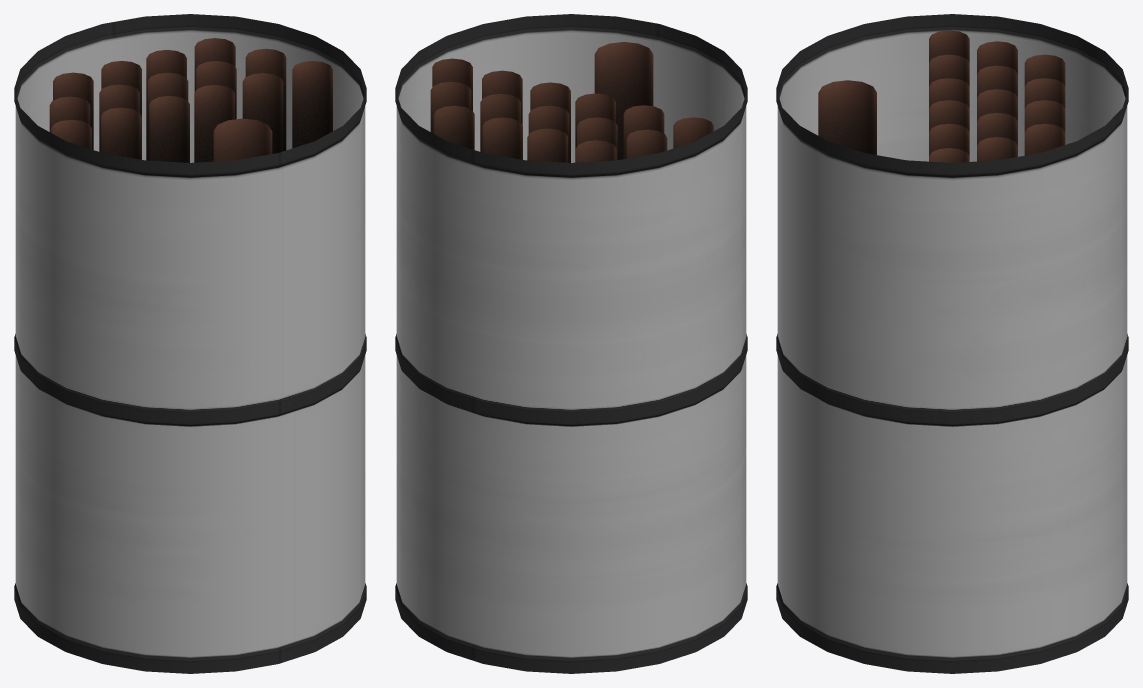
The model's file is 1.25m_Boiler_2m.obj.
3 renders of one model, left to right at view 1: azimuth 30°, elevation 25°; view 2: azimuth 150°, elevation 25°; view 3: azimuth 270°, elevation 25°, orthographic.
Visible parts, largest first — view 1: 1.25m_Boiler_Jacket.001; view 2: 1.25m_Boiler_Jacket.001; view 3: 1.25m_Boiler_Jacket.001.
Part boxes in pixels (x1,y1,x2,y2): 1.25m_Boiler_Jacket.001: [14, 14, 366, 673]; 1.25m_Boiler_Jacket.001: [395, 14, 747, 673]; 1.25m_Boiler_Jacket.001: [776, 14, 1128, 673].
Bounding box in the file's own units: 1.25 × 2 × 1.25.
1 material, 1 textured.
